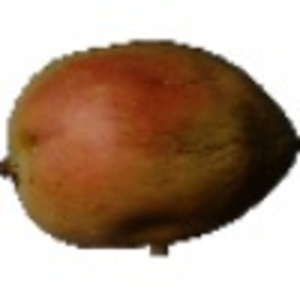mamão: (7, 29, 295, 247)
